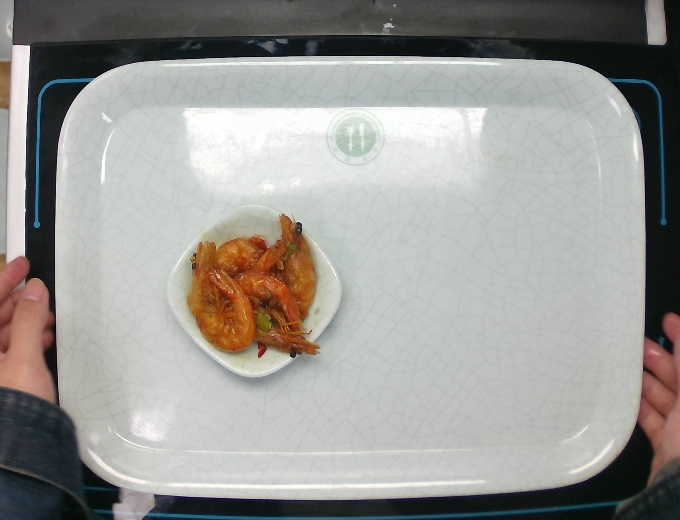JYsf-Si_Fang_Die: (161, 200, 346, 381)
